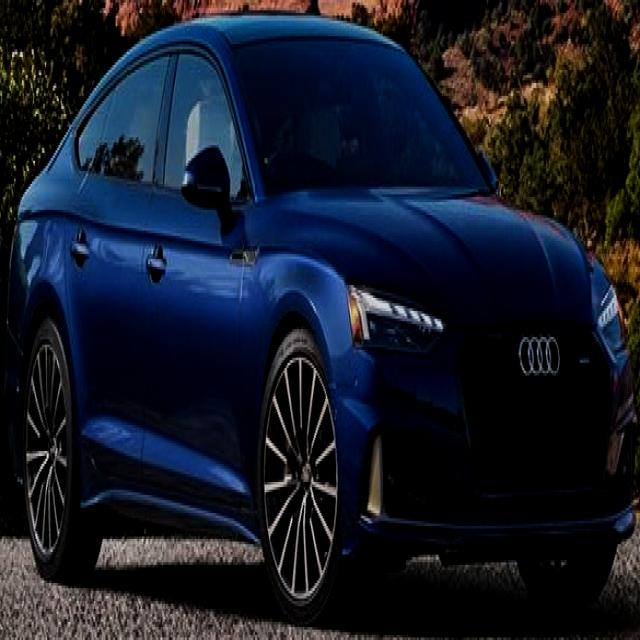blue: (8, 12, 638, 624)
